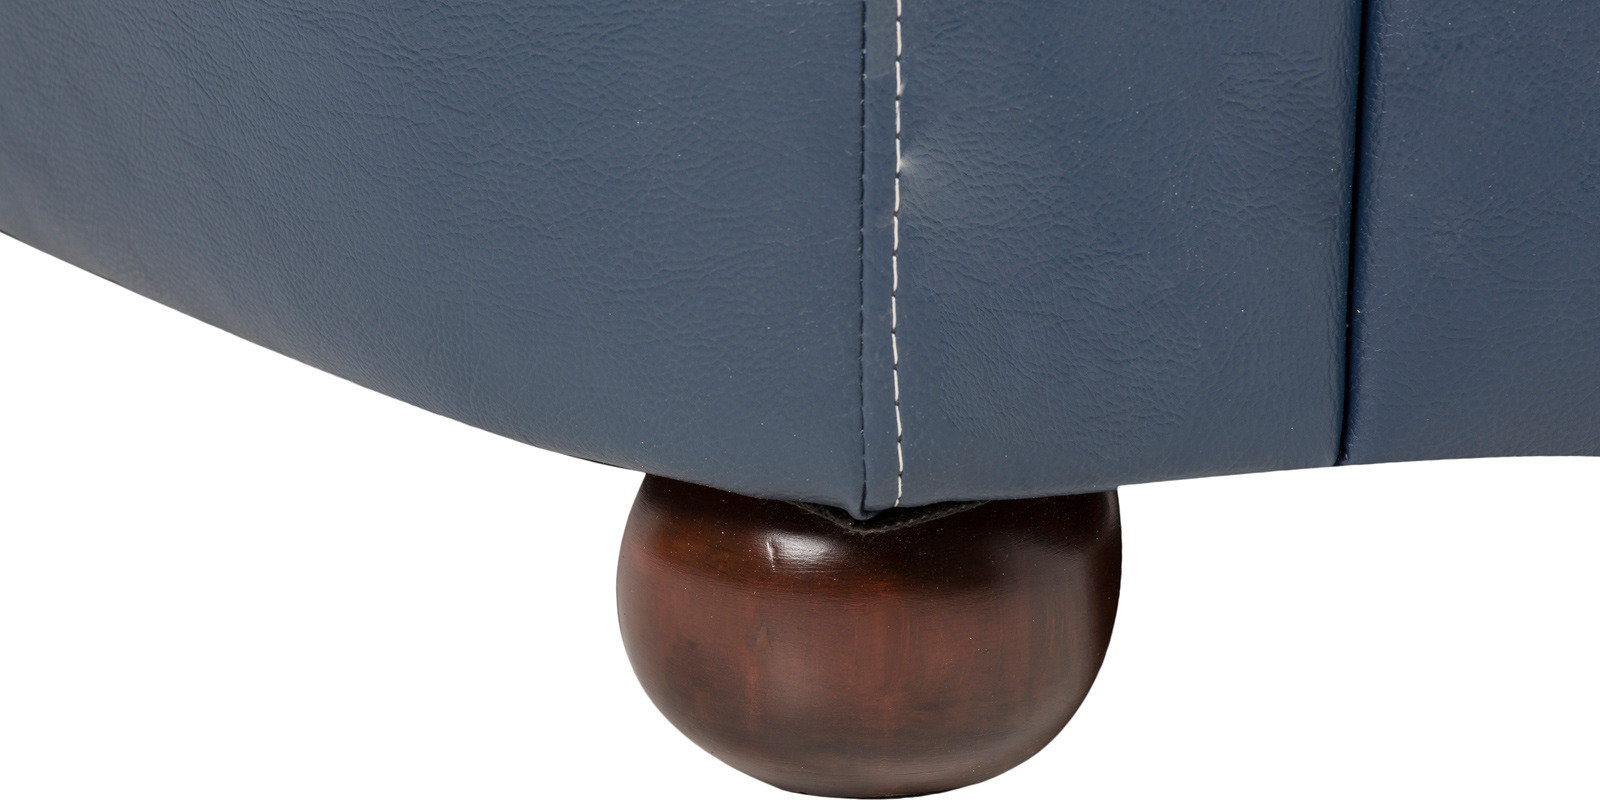Glassgow Heaven Three Seater Sofa with Throw Cushions in Blue Colour by Urban Li: (2, 1, 1599, 796)
